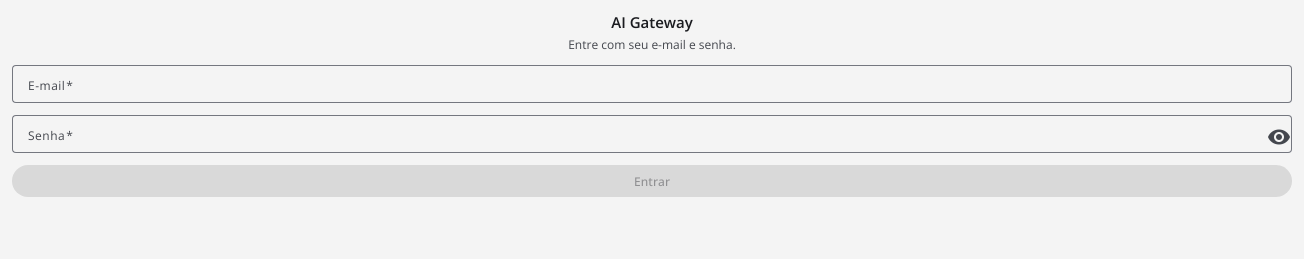
Test: SignInComponent › error messages › should show the unavailability message on a network failure
The image size is (1304, 259).
Type "ana@example.com" into the field named "email".
click(652, 84); type("ana@example.com")  # box left=28, top=72, right=1276, bottom=96
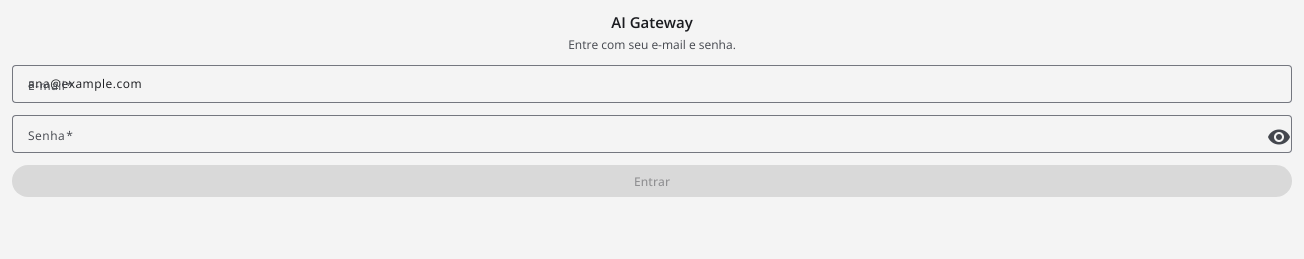
Type "secret-password" into the password field named "password".
click(642, 134); type("secret-password")  # box left=28, top=122, right=1256, bottom=146
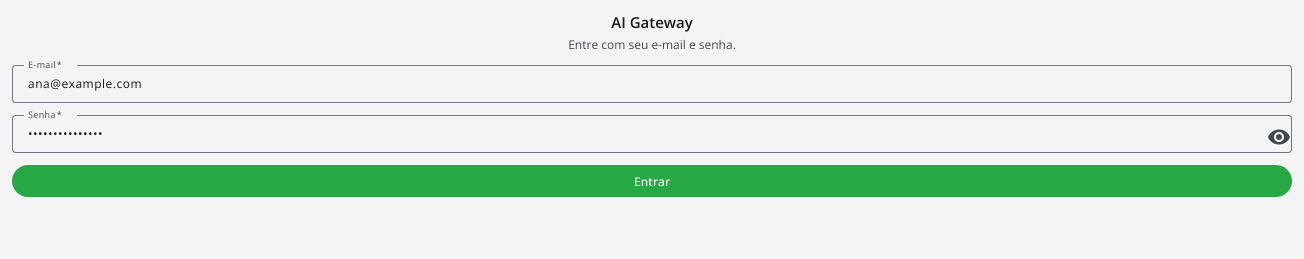
Submit the form with class "sign-in-form", box left=12, top=65, right=1292, bottom=197
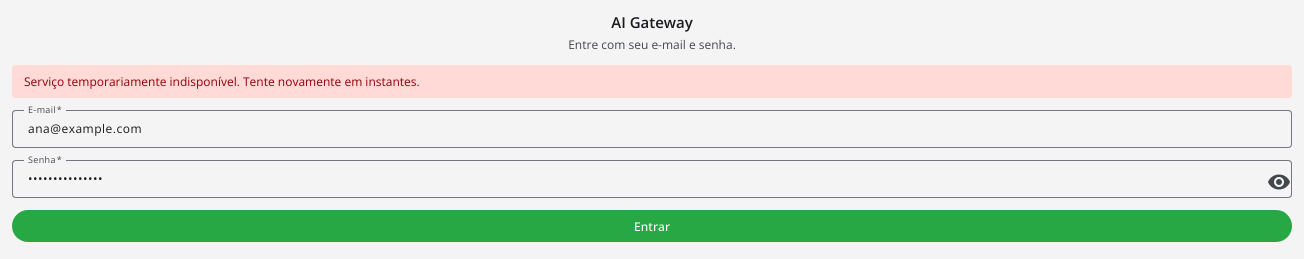
Expected: the text "Serviço temporariamente indisponível. Tente novamente em instantes." is shown, left=12, top=65, right=1292, bottom=98
Expected: the message with class "callout-error" reads "Serviço temporariamente indisponível. Tente novamente em instantes.", left=24, top=73, right=420, bottom=90
